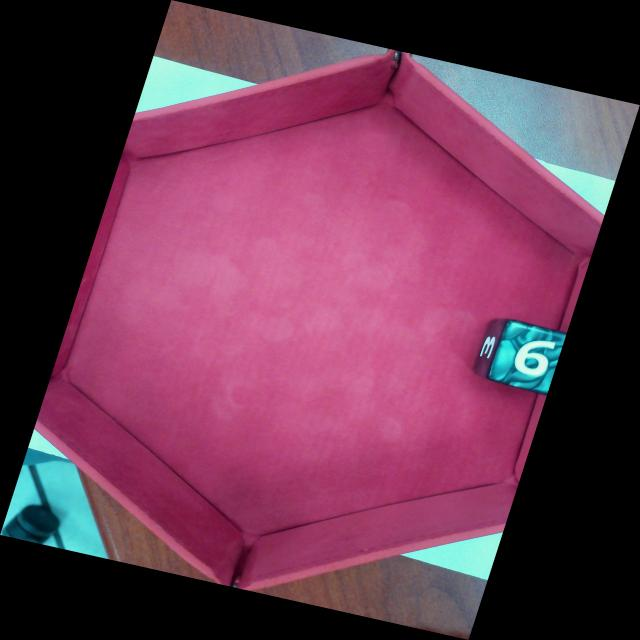dice: (492, 324, 567, 393)
